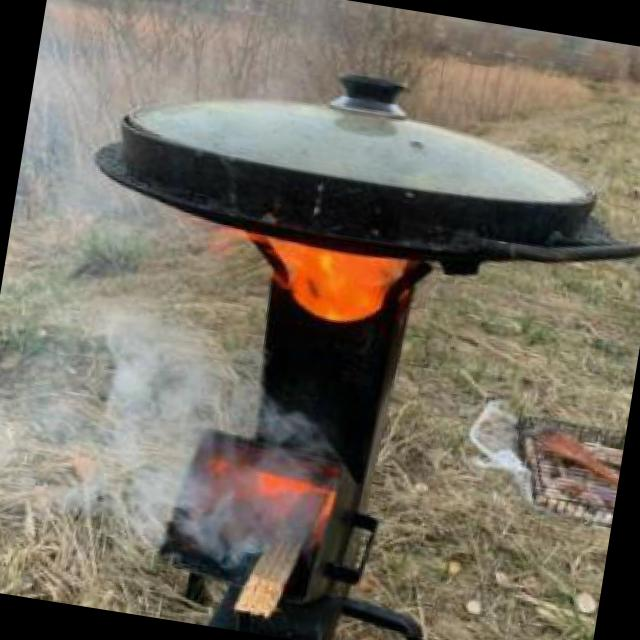fire: (14, 307, 398, 608)
smoke: (245, 227, 411, 353)
